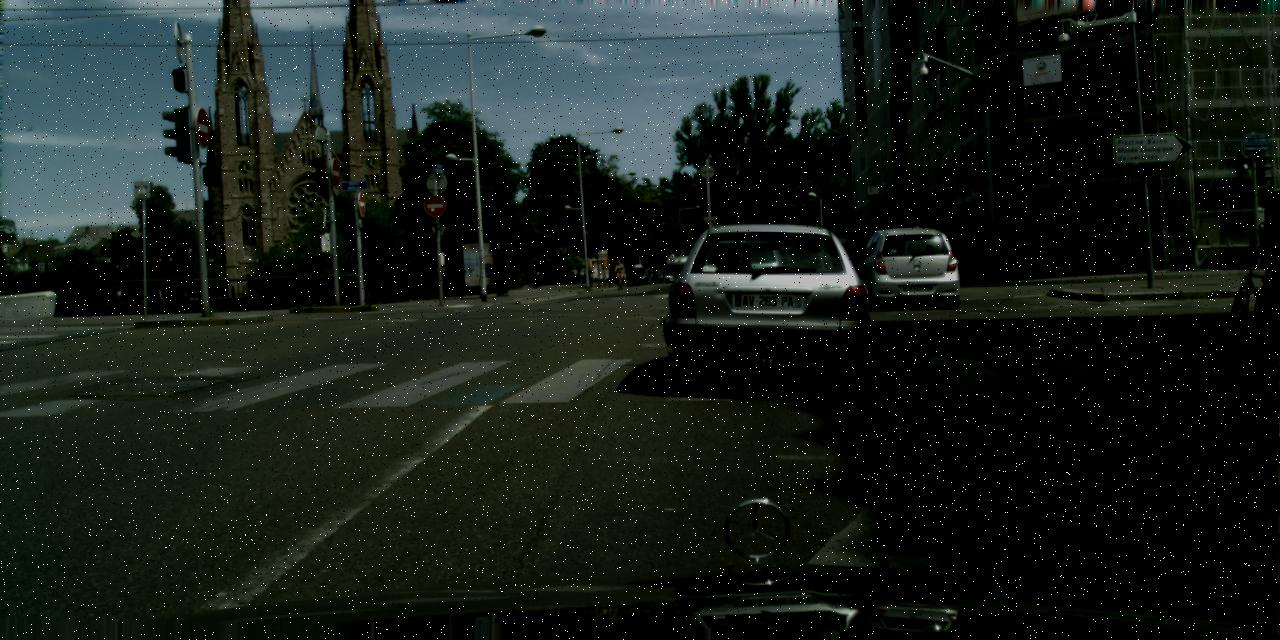ped: (1252, 195, 1278, 318), (614, 258, 624, 284), (570, 266, 578, 283)
